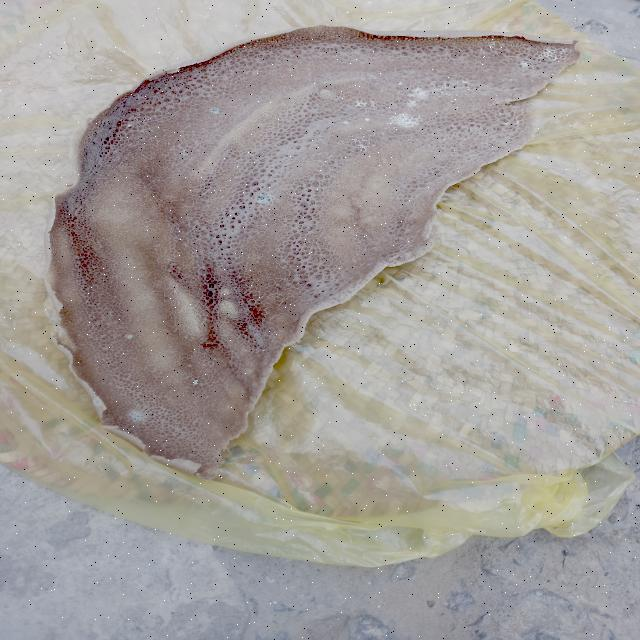injera_mold: (399, 80, 433, 108), (385, 110, 424, 130), (536, 46, 576, 64), (348, 136, 376, 154), (126, 406, 150, 424), (254, 191, 278, 207), (352, 98, 373, 109), (516, 57, 531, 69), (207, 106, 224, 116), (178, 147, 190, 159)
